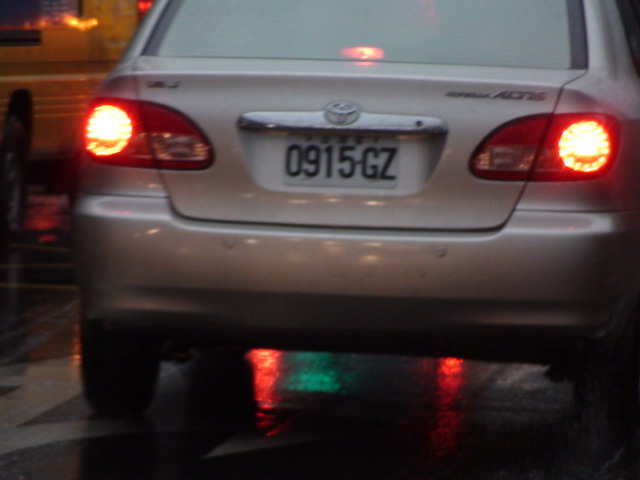plate: (279, 130, 404, 190)
